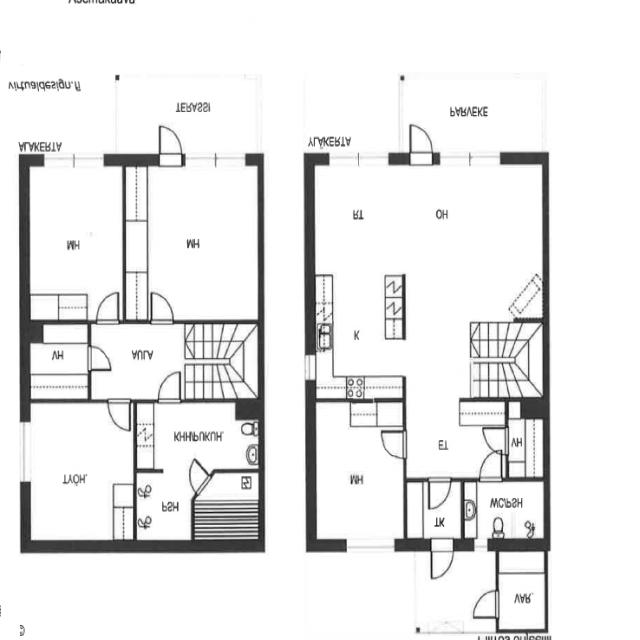door: (312, 399, 406, 545), (152, 120, 187, 172), (404, 119, 436, 170), (427, 536, 458, 587), (465, 585, 501, 623), (376, 426, 411, 464), (155, 366, 185, 406), (148, 286, 178, 326), (424, 474, 452, 514), (479, 425, 512, 458), (476, 448, 506, 484), (106, 395, 132, 435), (95, 288, 122, 326), (85, 342, 115, 373), (188, 457, 212, 490)
window: (321, 143, 394, 173), (36, 145, 108, 173), (178, 145, 252, 172), (434, 146, 506, 172), (339, 534, 402, 560), (15, 415, 34, 491), (302, 349, 318, 384), (470, 539, 492, 557)
zone: (123, 157, 263, 323), (25, 398, 135, 548), (27, 156, 125, 321), (314, 398, 404, 546), (310, 270, 406, 400), (137, 401, 262, 476), (461, 478, 549, 545), (194, 473, 264, 547), (27, 324, 90, 402), (496, 545, 548, 634), (134, 470, 194, 543), (504, 412, 548, 479)
